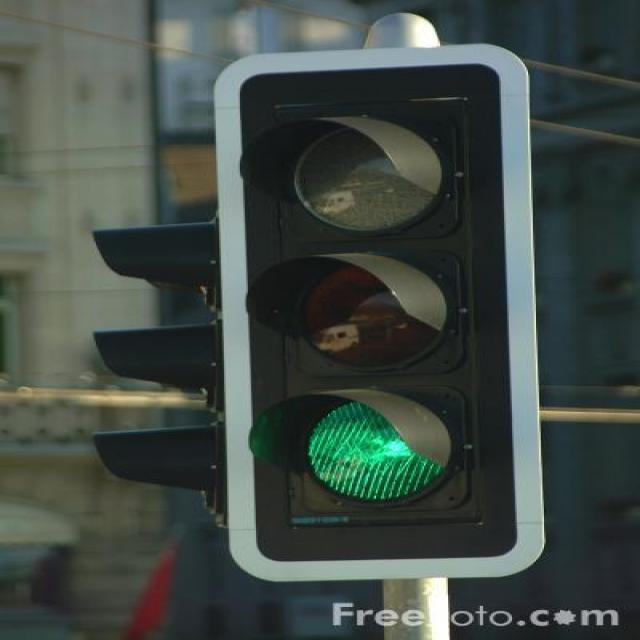green_light: (231, 68, 516, 558)
